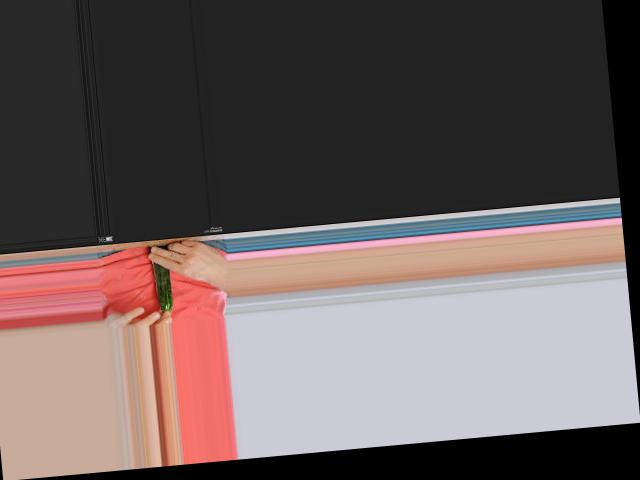cucumber: (153, 260, 174, 312)
